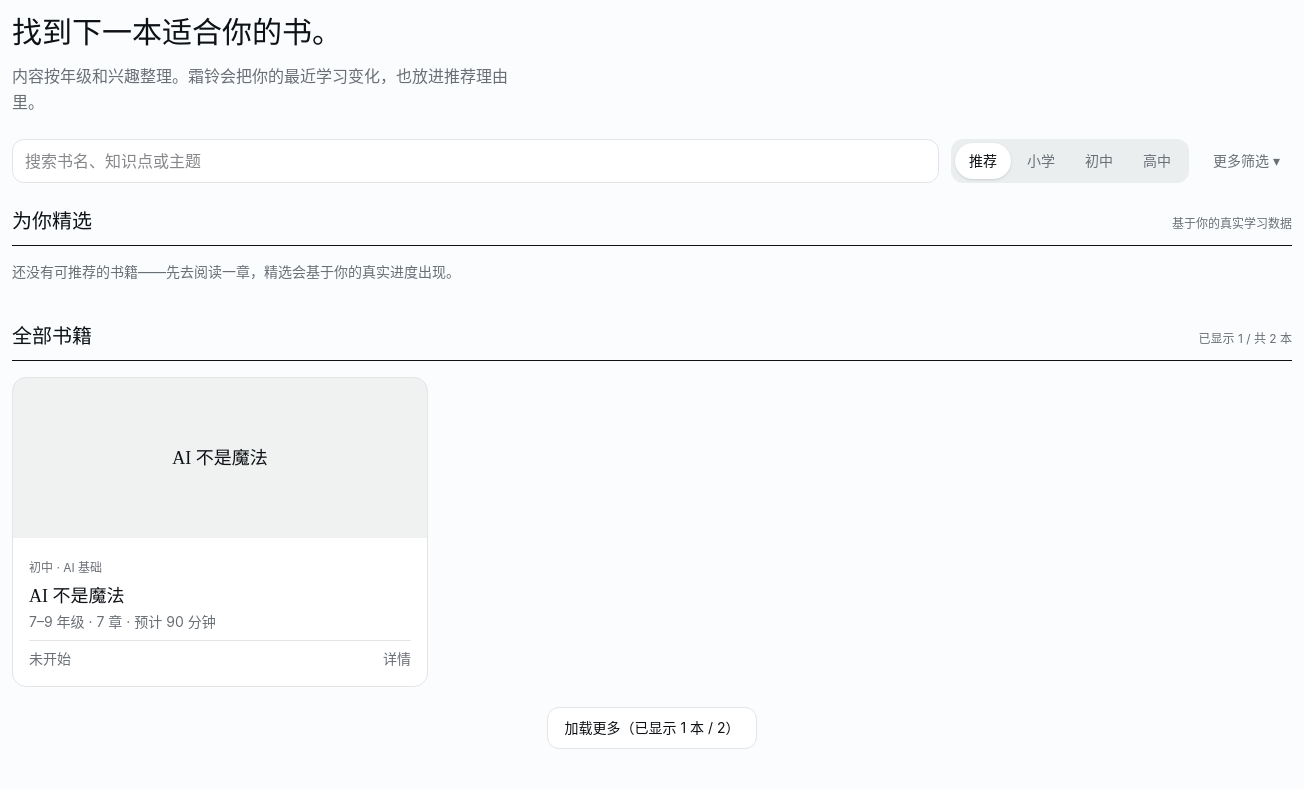
Scenario: LibraryPage 分页、错误与后端搜索 › 负载更多：追加下一页并保留前页，游标由 meta 提供
The width and height of the screenshot is (1304, 789).
(page scrolled)
Check: the button "AI 不是魔法" is shown, box [29,585,411,608]
Click the button "加载更多（已显示 1 本 / 2）" at (652, 728), box [548,707,756,749]
(page scrolled)
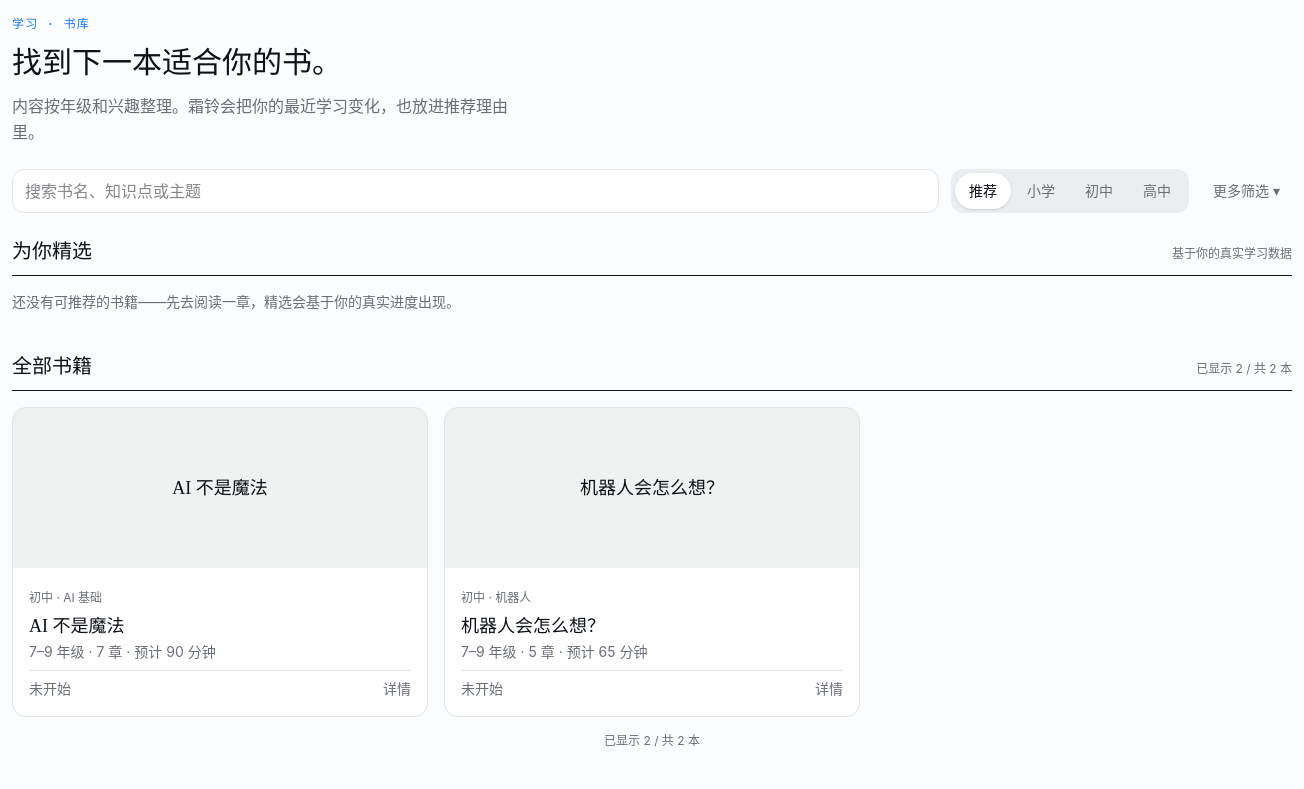
Check: the button "机器人会怎么想？" is shown, box [461,615,843,638]
